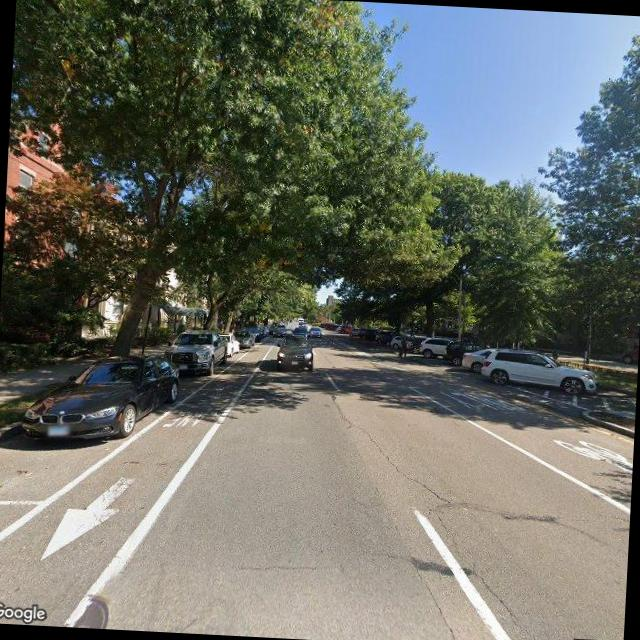crack: (319, 400, 559, 640), (401, 540, 458, 640), (216, 546, 342, 580)
